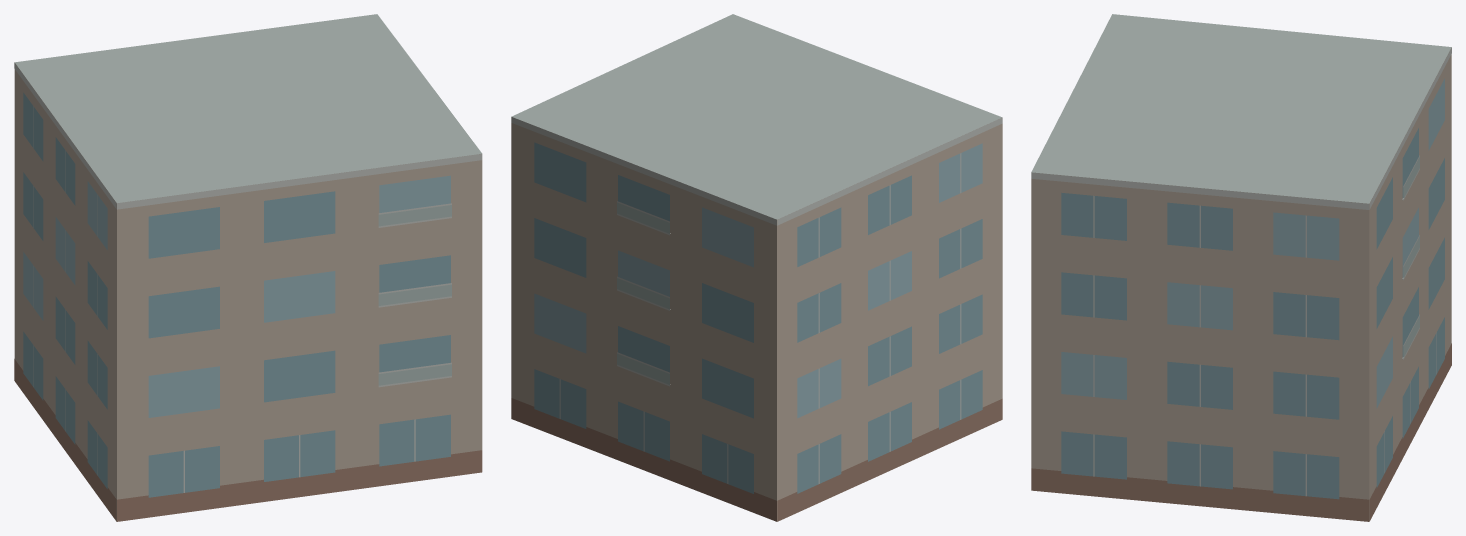
File: survey-upis-32809969.glb
The picture shows the model from 3 angles, left to right: view 1: azimuth 30°, elevation 25°; view 2: azimuth 150°, elevation 25°; view 3: azimuth 270°, elevation 25°; orthographic projection. The views are drawn at different scales.
Visible parts, largest first — view 1: survey-upis-32809969.tmp; view 2: survey-upis-32809969.tmp; view 3: survey-upis-32809969.tmp.
Boxes of the visible parts, left/top/right/bottom form: survey-upis-32809969.tmp: left=14, top=14, right=482, bottom=521; survey-upis-32809969.tmp: left=511, top=14, right=1002, bottom=521; survey-upis-32809969.tmp: left=1031, top=14, right=1451, bottom=521.
Bounding box in the file's own units: 15.53 × 12.14 × 14.56.
